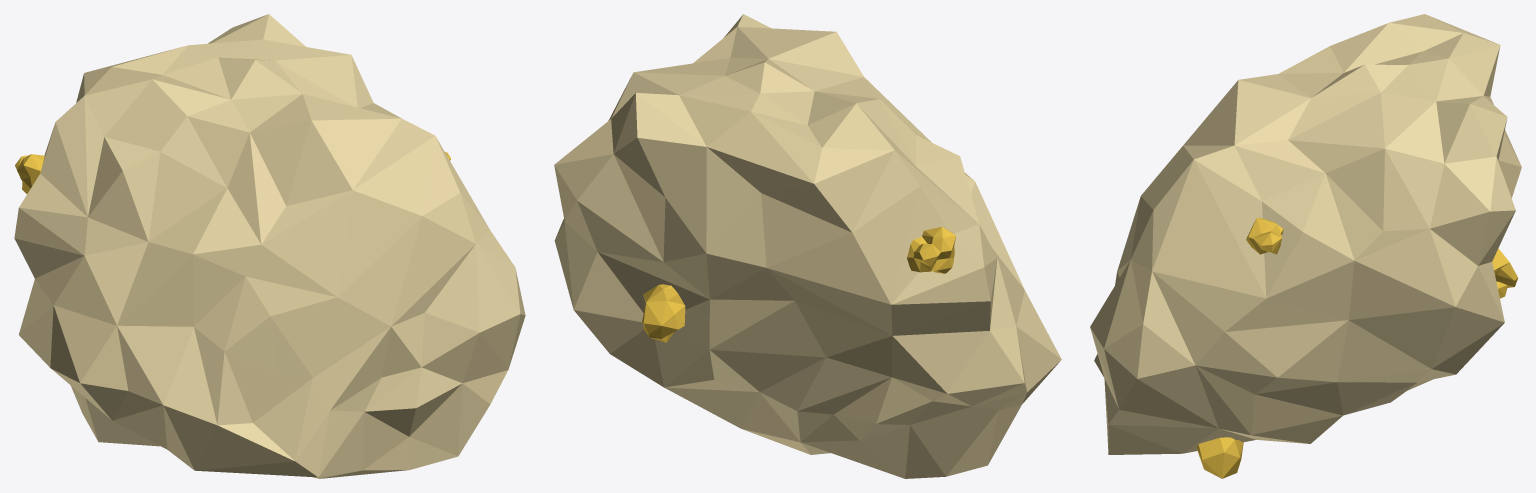
Rendered from MetalOre (39).fbx.
3 views of the same model, side by side, from view 1: azimuth 30°, elevation 25°; view 2: azimuth 150°, elevation 25°; view 3: azimuth 270°, elevation 25° (orthographic). The views are drawn at different scales.
Parts seen in each view (by area): view 1: Asteroid394; view 2: Asteroid394; view 3: Asteroid394.
Part boxes in pixels (<box>): Asteroid394: <box>14,14,525,478</box>; Asteroid394: <box>554,14,1061,478</box>; Asteroid394: <box>1090,14,1521,478</box>.
Size of the model in its own units: 610 by 508 by 545.
